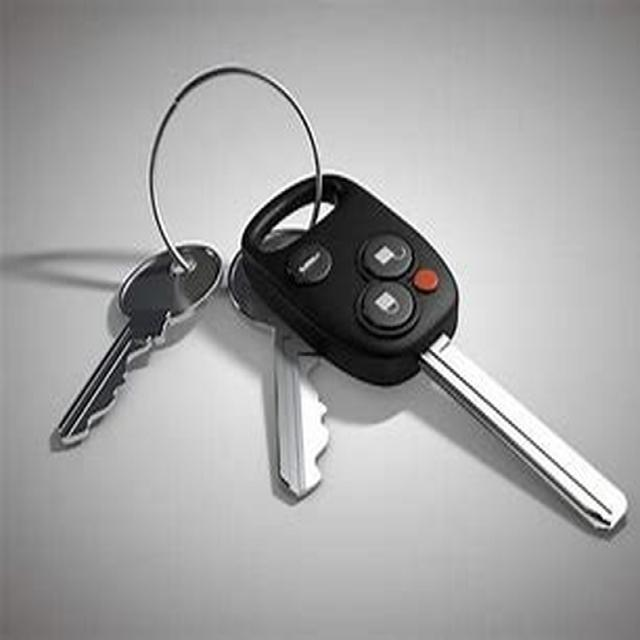key: (33, 37, 640, 565)
